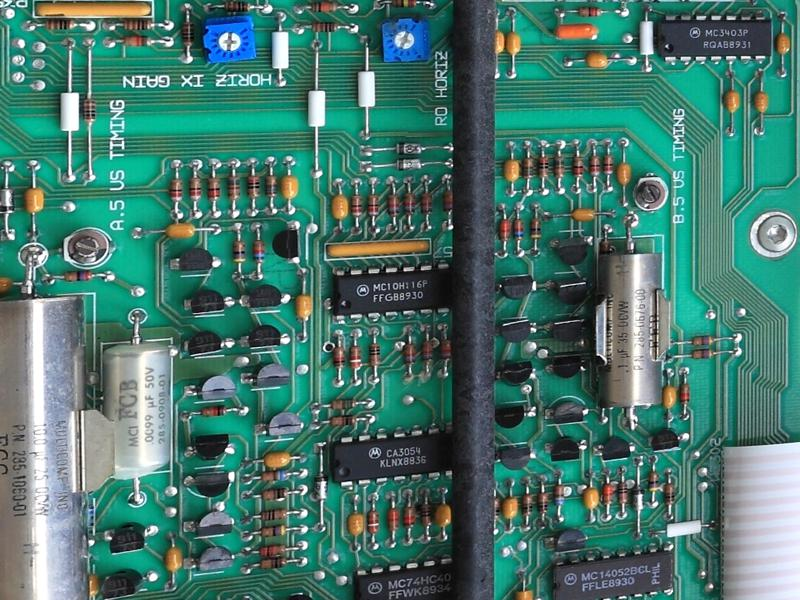Diode: (1, 179, 17, 221), (630, 483, 647, 515)
Resistor: (254, 483, 295, 503), (253, 506, 295, 524), (255, 521, 294, 540), (57, 267, 102, 283), (255, 467, 295, 485), (248, 235, 270, 267), (203, 172, 223, 207), (253, 541, 294, 558), (195, 401, 231, 420), (253, 555, 293, 572), (118, 17, 158, 33), (304, 19, 344, 35), (225, 170, 243, 205), (167, 173, 186, 206), (418, 335, 437, 368), (244, 170, 263, 202), (418, 187, 437, 219), (685, 347, 721, 363), (263, 169, 280, 202), (81, 95, 99, 126), (178, 17, 196, 48), (400, 339, 418, 370), (115, 34, 157, 47), (417, 498, 434, 530), (347, 341, 364, 373), (326, 413, 362, 428), (40, 18, 81, 31), (570, 4, 608, 18), (187, 172, 203, 205), (385, 503, 401, 536), (231, 236, 248, 267), (305, 1, 345, 14), (219, 1, 256, 15), (367, 340, 383, 372), (437, 335, 454, 365), (519, 489, 536, 519), (400, 189, 417, 219), (365, 191, 382, 220), (365, 506, 381, 536), (326, 397, 360, 411), (663, 479, 678, 510), (677, 378, 692, 409), (497, 215, 512, 246), (529, 214, 544, 244), (552, 152, 567, 182), (687, 334, 721, 347), (616, 479, 631, 508), (386, 191, 401, 220), (520, 153, 535, 182), (401, 503, 417, 530), (331, 344, 347, 371), (600, 480, 615, 508), (536, 152, 550, 182), (570, 152, 585, 180), (588, 151, 602, 181), (551, 482, 567, 508), (512, 214, 525, 246), (602, 150, 615, 181), (349, 192, 363, 220), (441, 186, 454, 216), (646, 469, 660, 495), (492, 491, 503, 522), (537, 488, 549, 516), (386, 1, 423, 9)
